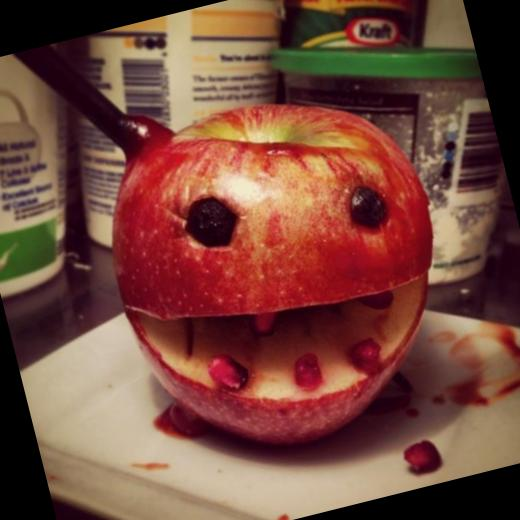Apple: (68, 51, 466, 452)
